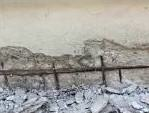Exposed reinforcement: (1, 65, 149, 77), (51, 61, 61, 91), (99, 55, 107, 87), (1, 61, 8, 89), (118, 68, 122, 84)
Spalling: (1, 38, 149, 90)
